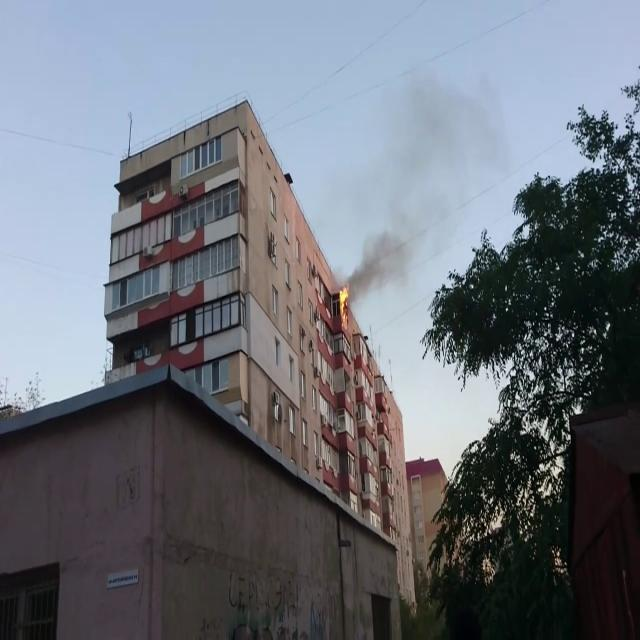Fire: (338, 278, 350, 332)
Smoke: (348, 65, 464, 312), (347, 212, 415, 312)
